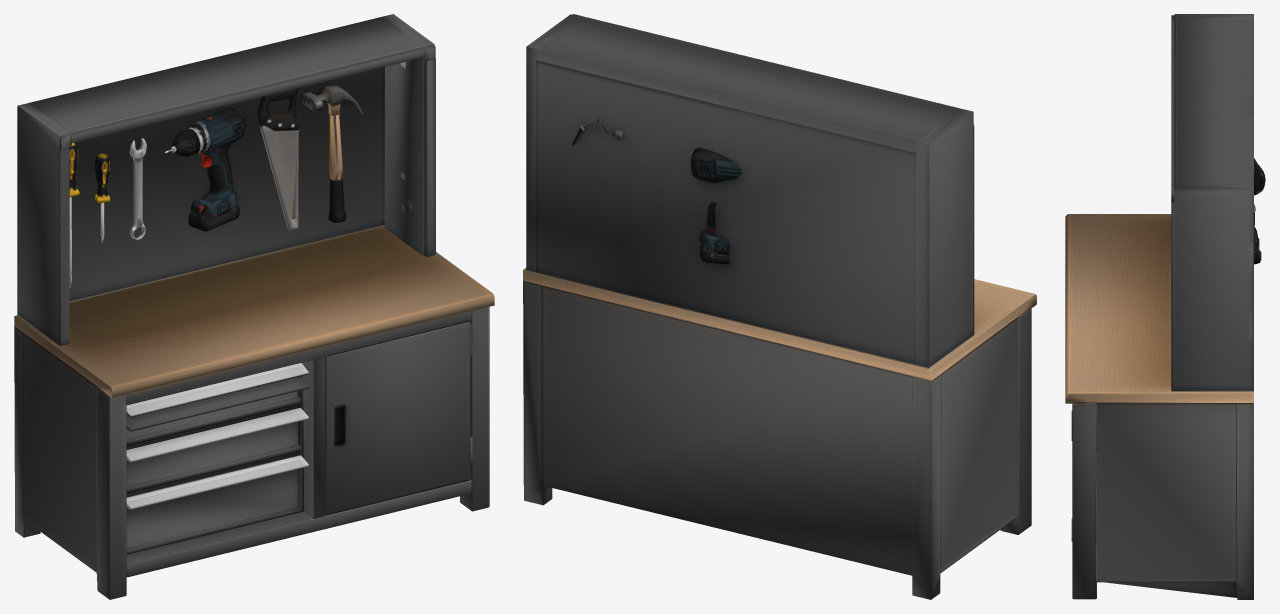
The model's file is workbench-tool-cabinet.glb.
The picture shows the model from 3 angles, left to right: view 1: azimuth 30°, elevation 25°; view 2: azimuth 150°, elevation 25°; view 3: azimuth 270°, elevation 25°; orthographic projection. The views are drawn at different scales.
Visible parts, largest first — view 1: tripo_node_9af458ad-a74b-4b67-876f-ac4057d5cc2a; view 2: tripo_node_9af458ad-a74b-4b67-876f-ac4057d5cc2a; view 3: tripo_node_9af458ad-a74b-4b67-876f-ac4057d5cc2a.
Part boxes in pixels (<box>): tripo_node_9af458ad-a74b-4b67-876f-ac4057d5cc2a: <box>14,14,494,599</box>; tripo_node_9af458ad-a74b-4b67-876f-ac4057d5cc2a: <box>523,14,1036,599</box>; tripo_node_9af458ad-a74b-4b67-876f-ac4057d5cc2a: <box>1065,14,1265,599</box>.
Size of the model in its own units: 0.9395 by 0.998 by 0.4434.
1 material, 1 textured.
